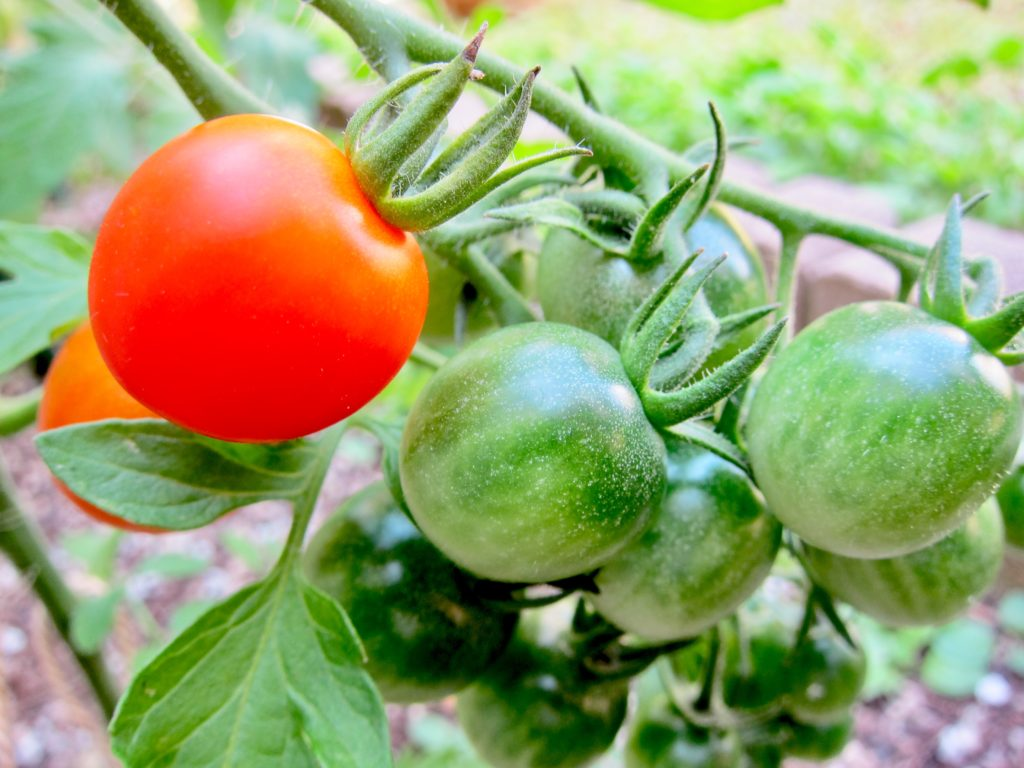stems: (632, 186, 721, 394), (365, 50, 453, 210), (965, 256, 1008, 342)
tomato: (84, 111, 432, 444), (740, 295, 1024, 561), (394, 322, 667, 588), (34, 311, 274, 540), (290, 477, 520, 707), (538, 190, 769, 416), (578, 415, 780, 642), (779, 488, 1009, 629)
